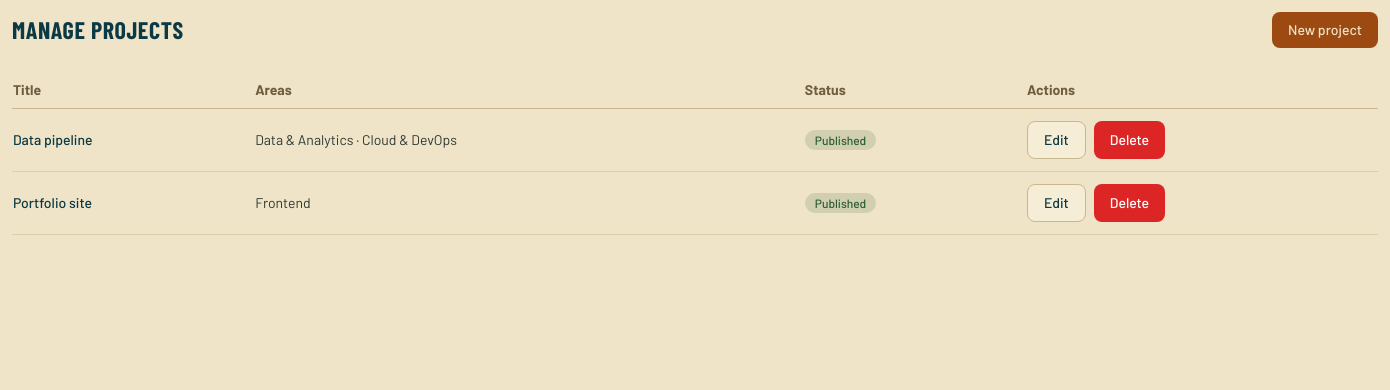
Scenario: AdminProjects › shows an error instead of the form when the project cannot be loaded
Expected: the text "Data pipeline" is shown, x1=12 y1=108 x2=254 y2=172
Click the button with aria-label "Edit Data pipeline".
click(1056, 140)  # box x1=1027 y1=121 x2=1086 y2=159
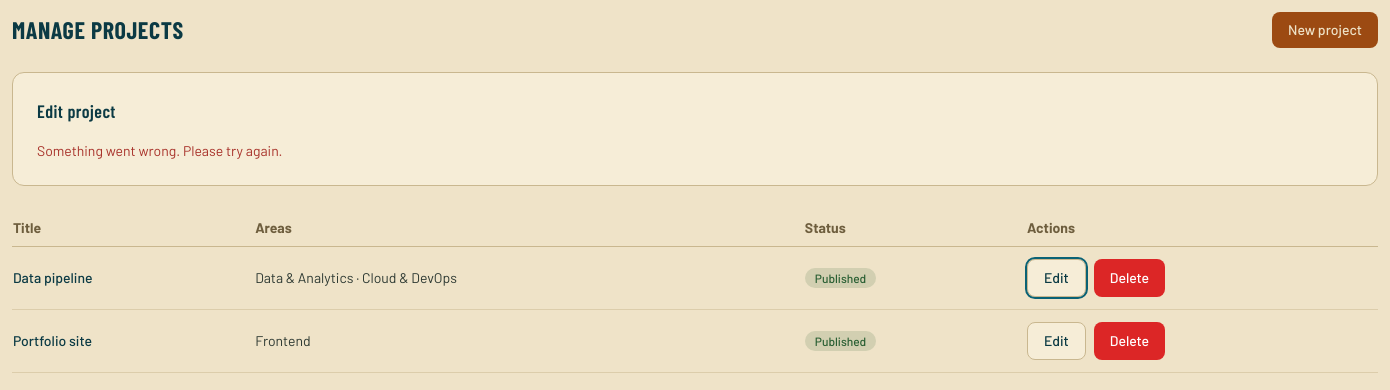
Result: the message shows "Something went wrong" at x1=37 y1=142 x2=282 y2=159
